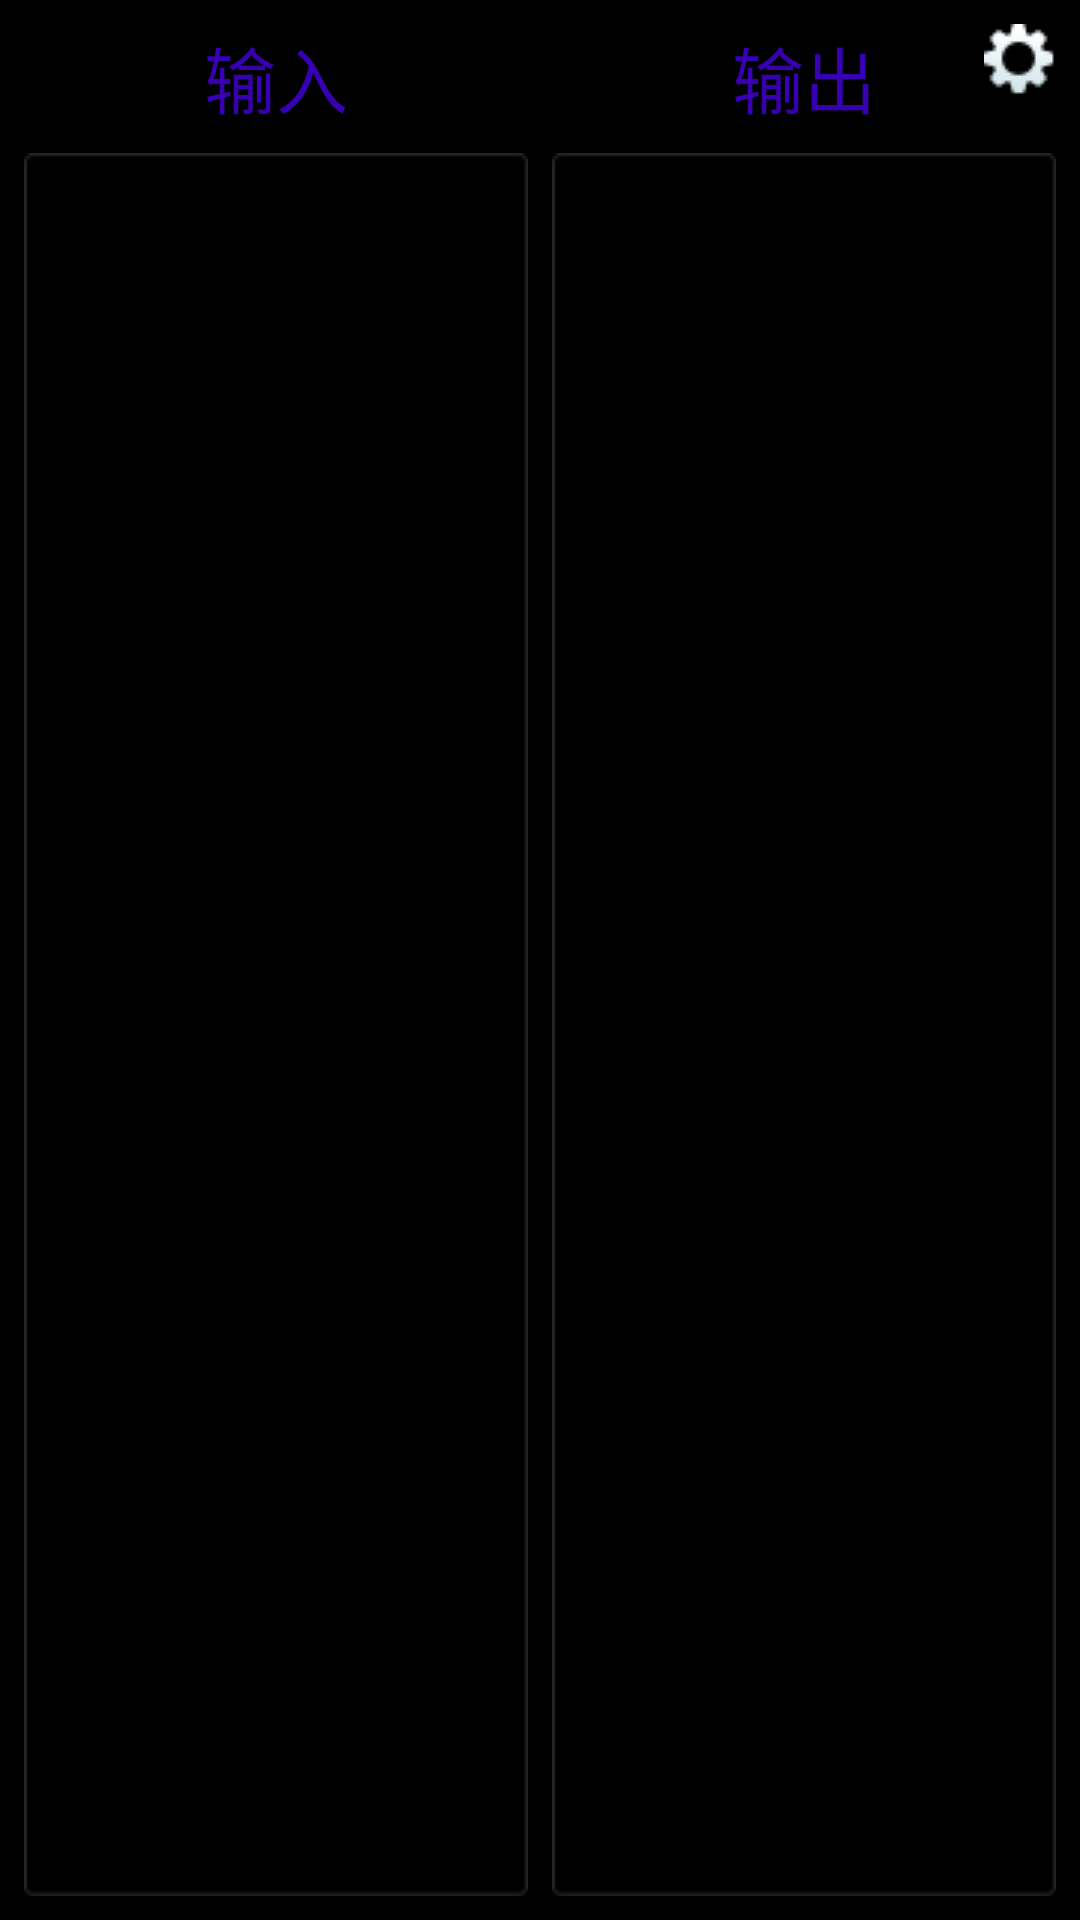

Where icons sit on this 1080px x 1920px app screen, as (x1=x1, y1=y1, x2=x2, y2=y2):
setting: (x1=984, y1=24, x2=1054, y2=94)
